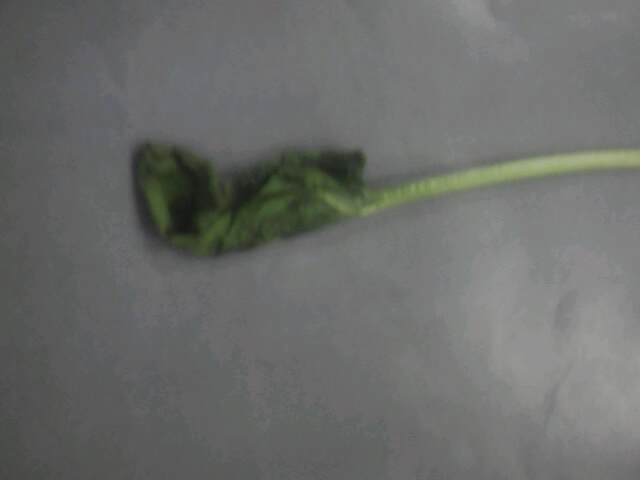yellow: (86, 109, 546, 276)
